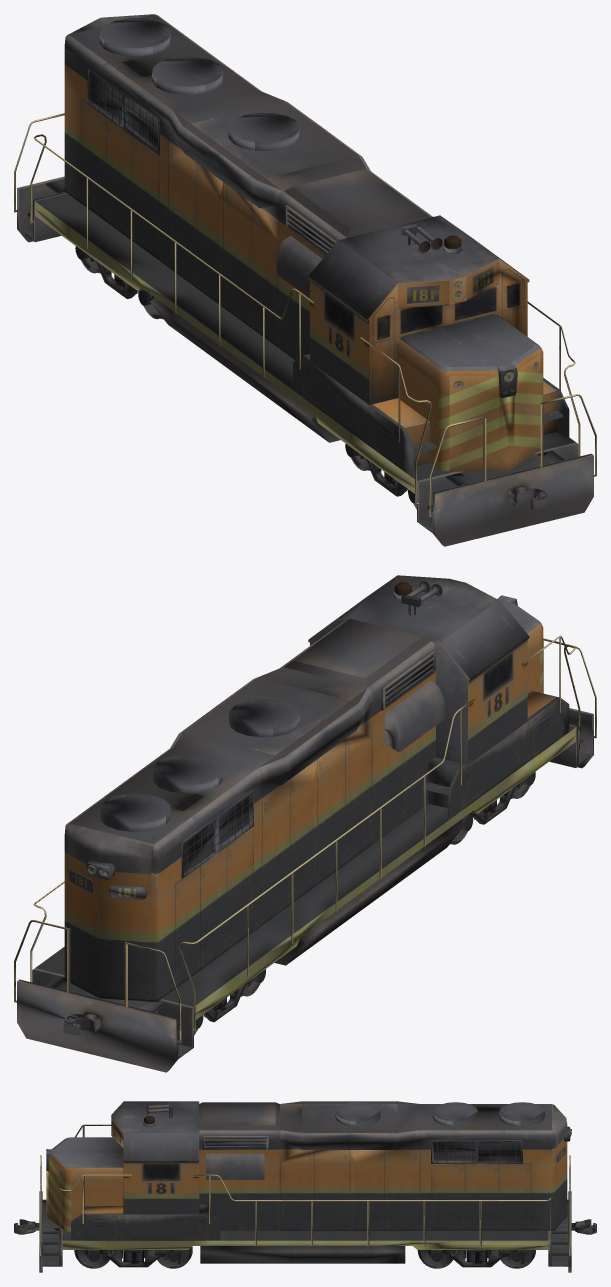
File: train.glb
3 renders of one model, top to bottom at view 1: azimuth 30°, elevation 25°; view 2: azimuth 150°, elevation 25°; view 3: azimuth 270°, elevation 25°, orthographic. The views are drawn at different scales.
Visible parts, largest first — view 1: train_enginecar.004, back_axle, front_axle; view 2: train_enginecar.004, front_axle, back_axle; view 3: train_enginecar.004, front_axle, back_axle.
Part boxes in pixels (bbox=[...]): train_enginecar.004: bbox=[14, 14, 596, 546]; back_axle: bbox=[75, 246, 163, 319]; front_axle: bbox=[345, 444, 416, 509]; train_enginecar.004: bbox=[14, 575, 596, 1072]; front_axle: bbox=[450, 772, 535, 844]; back_axle: bbox=[194, 969, 265, 1035]; train_enginecar.004: bbox=[14, 1101, 596, 1272]; front_axle: bbox=[74, 1246, 192, 1268]; back_axle: bbox=[417, 1250, 535, 1268].
Size of the model in its own units: 2.8 by 3.75 by 13.29.
2 materials, 2 textured.
